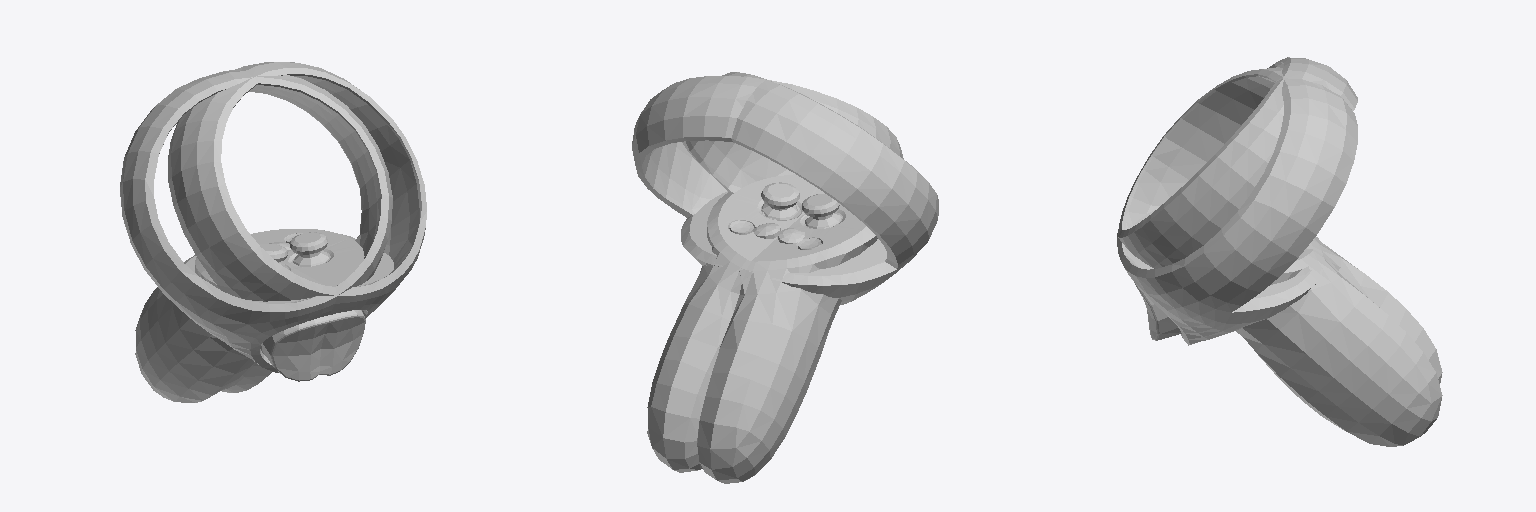
The model's file is quest2_contollers_div0.obj.
3 renders of one model, left to right at view 1: azimuth 30°, elevation 25°; view 2: azimuth 150°, elevation 25°; view 3: azimuth 270°, elevation 25°, orthographic.
Visible parts, largest first — view 1: right_quest2_mesh, left_quest2_mesh; view 2: left_quest2_mesh, right_quest2_mesh; view 3: right_quest2_mesh, left_quest2_mesh.
Part boxes in pixels (x1,y1,x2,y2): right_quest2_mesh: (135,62,426,402); left_quest2_mesh: (120,70,392,392); left_quest2_mesh: (647,72,938,472); right_quest2_mesh: (632,76,903,483); right_quest2_mesh: (1117,67,1442,383); left_quest2_mesh: (1117,57,1442,446).
Size of the model in its own units: 10.92 by 13.46 by 11.14.